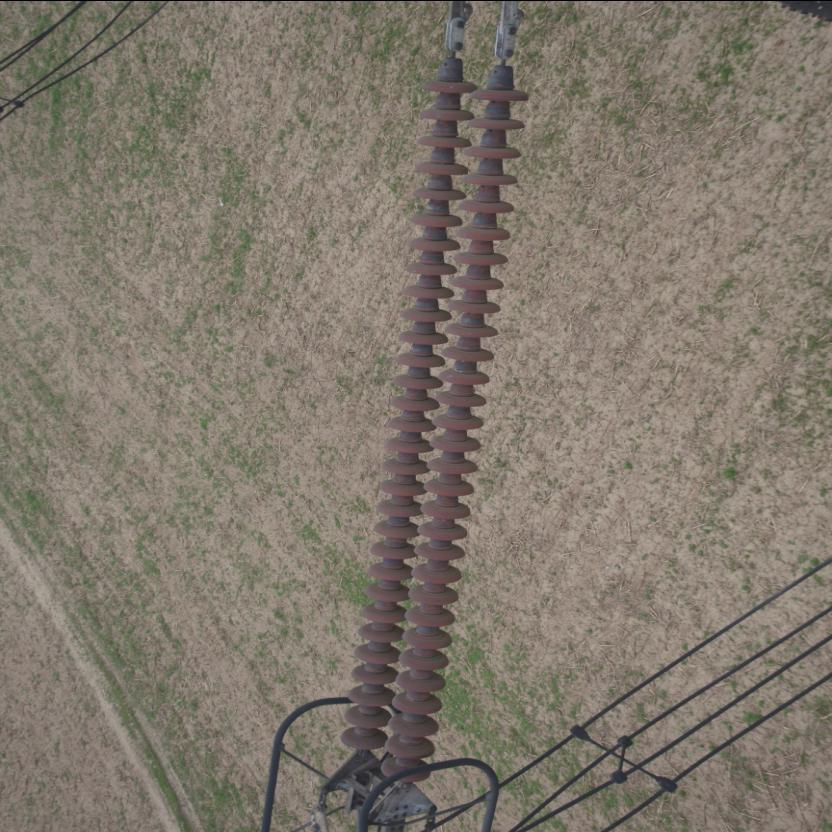insulator: (331, 22, 538, 796)
